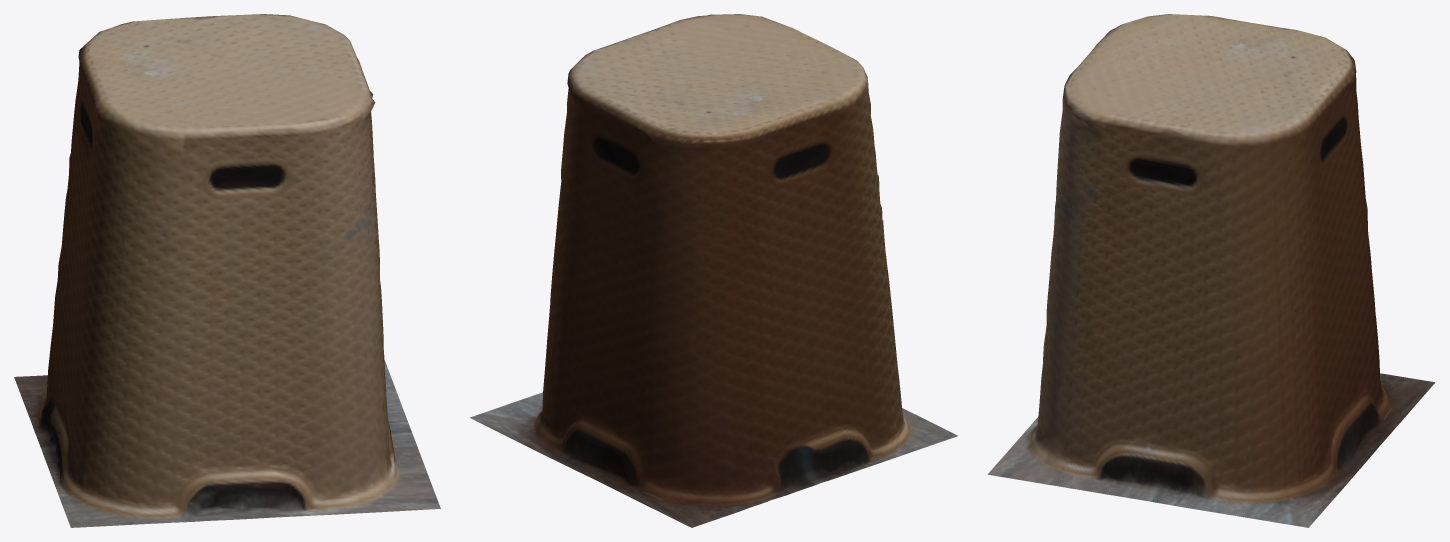
Rendered from 3DModel_LowPoly.gltf.
3 renders of one model, left to right at view 1: azimuth 30°, elevation 25°; view 2: azimuth 150°, elevation 25°; view 3: azimuth 270°, elevation 25°, orthographic. The views are drawn at different scales.
Visible parts, largest first — view 1: 3DModel_LowPoly; view 2: 3DModel_LowPoly; view 3: 3DModel_LowPoly.
Part boxes in pixels (x1,y1,x2,y2): 3DModel_LowPoly: (14,14,440,527); 3DModel_LowPoly: (470,14,957,527); 3DModel_LowPoly: (987,14,1434,527).
Bounding box in the file's own units: 3.61 × 3.15 × 3.56.
1 material, 1 textured.
